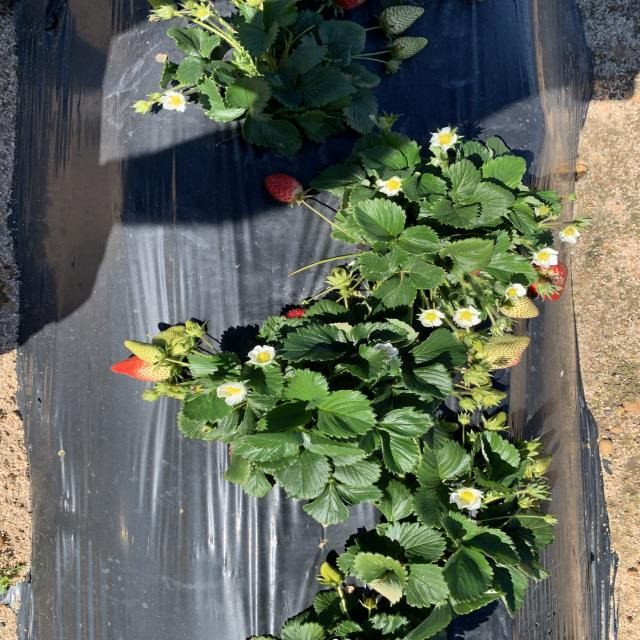unripe: (524, 256, 568, 302), (110, 350, 176, 380), (260, 172, 306, 204), (275, 304, 320, 329), (339, 0, 367, 14)
